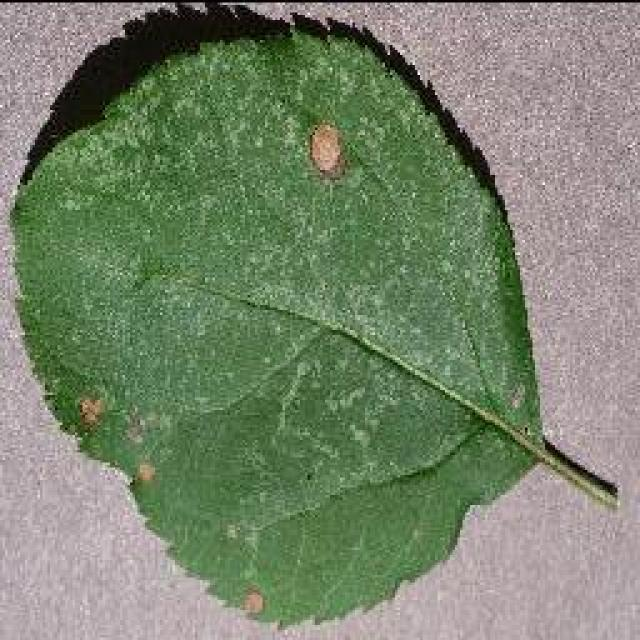apple scab disease: (5, 0, 615, 630)
